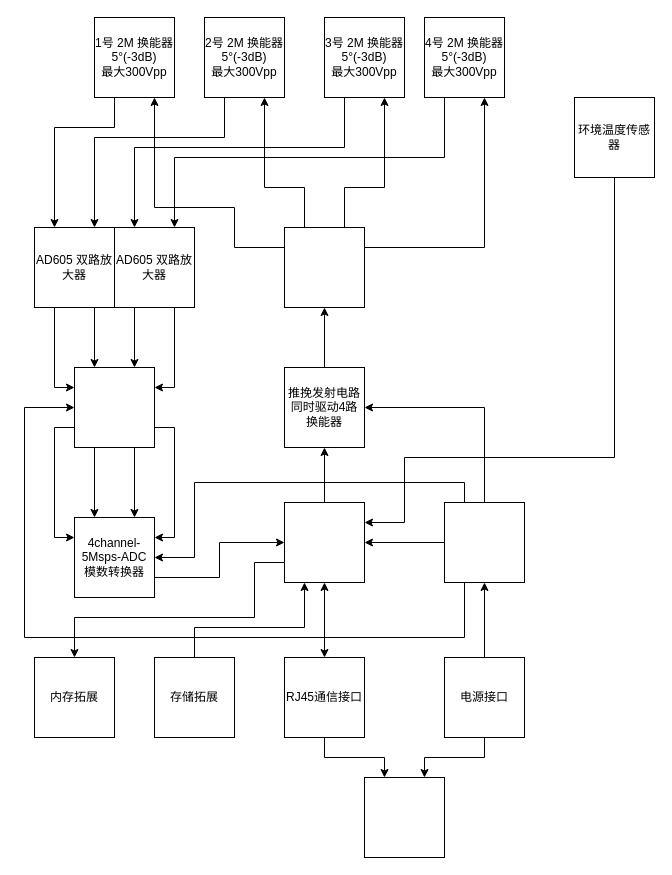
Some shapes in this 672 by 875 pixel diagram are drawn without their labels. Each missing label, with the box of its shape:
4通道数字可调谐高通和低通滤波器: (74, 366, 154, 448)
6芯航插: (364, 776, 444, 858)
DSP 数字信号处理器: (284, 502, 364, 582)
变压器升压 阻抗变换: (284, 226, 364, 308)
电源管理: (444, 502, 524, 582)
